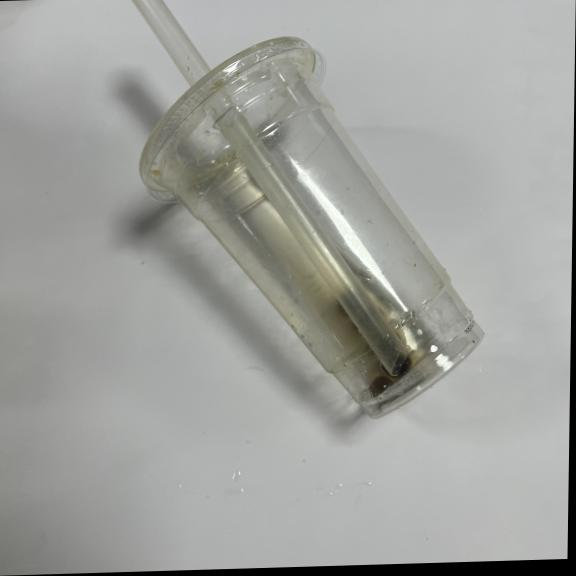Plastik: (140, 36, 482, 416)
